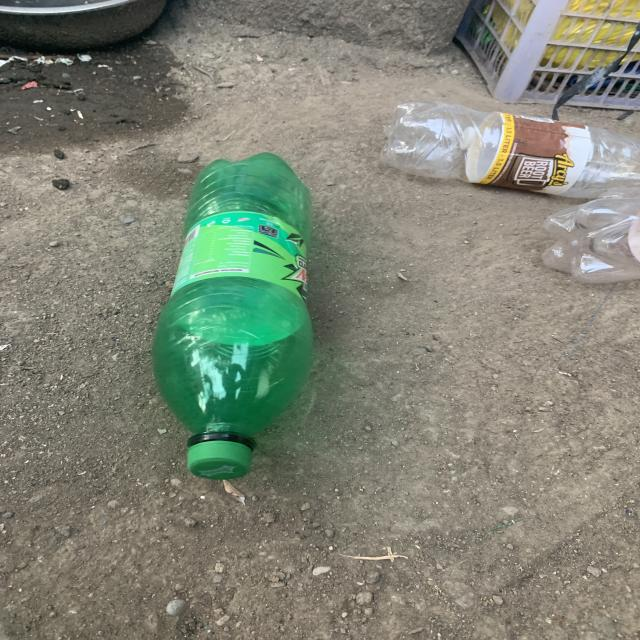Bottle: (152, 153, 313, 481)
